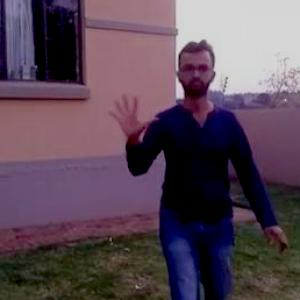follow_hand: (103, 91, 160, 143)
